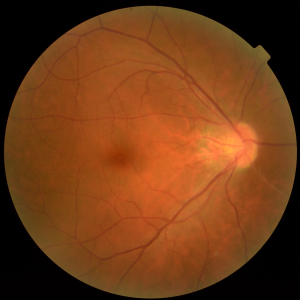healthy_eye: (53, 84, 274, 194)
